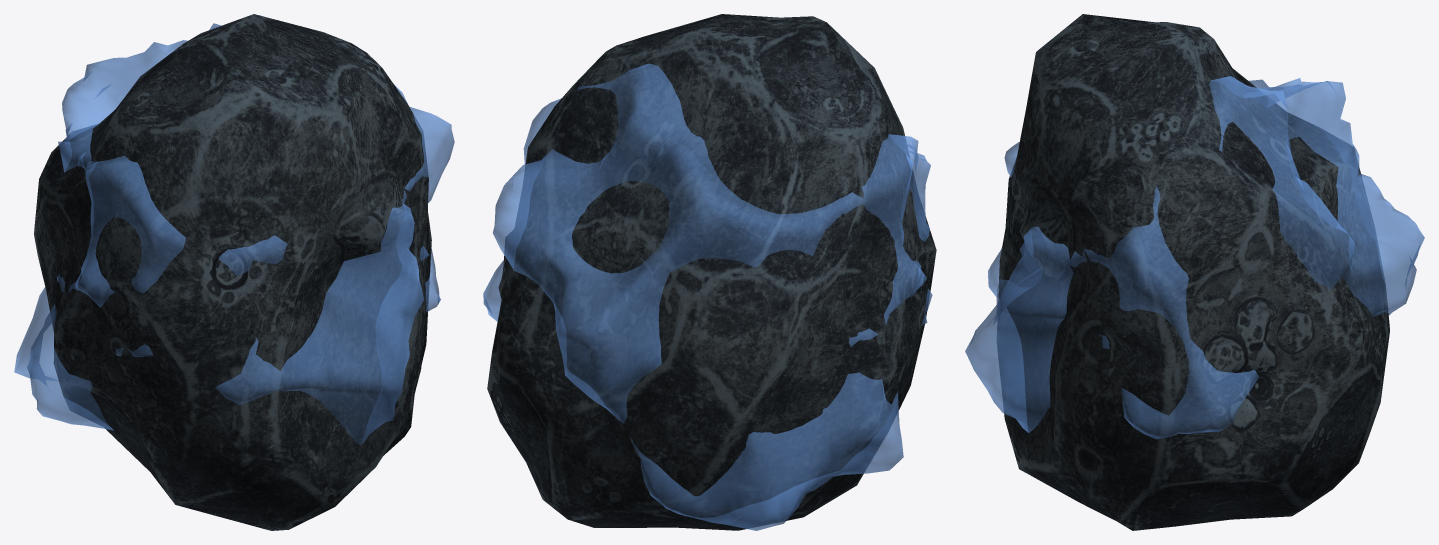
File: rockBlue.gltf
3 views of the same model, side by side, from view 1: azimuth 30°, elevation 25°; view 2: azimuth 150°, elevation 25°; view 3: azimuth 270°, elevation 25° (orthographic). The views are drawn at different scales.
Parts seen in each view (by area): view 1: RockLP, Icosphere; view 2: RockLP, Icosphere; view 3: RockLP, Icosphere.
Boxes of the visible parts, x1,y1,x2,y2 form: RockLP: (34,14,431,530); Icosphere: (14,15,454,444); RockLP: (487,14,936,530); Icosphere: (483,63,932,530); RockLP: (997,14,1389,530); Icosphere: (965,76,1424,439).
Bounding box in the file's own units: 2.69 × 3.05 × 2.68.
Materials: 2 (1 with a texture image).
